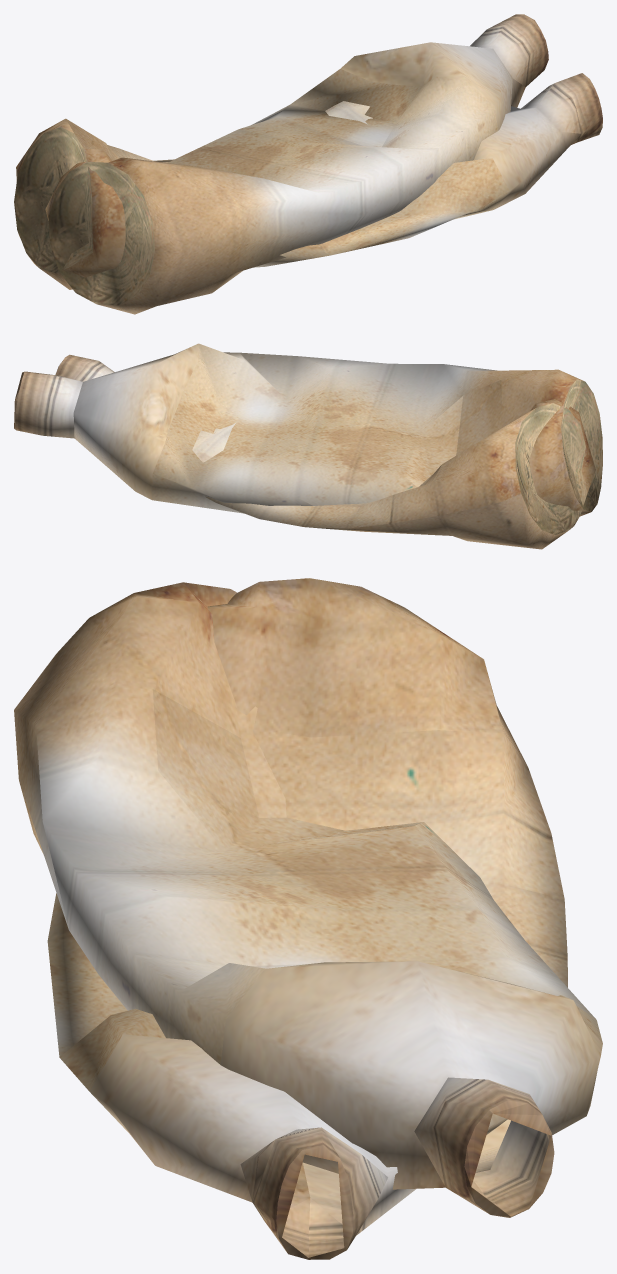
The model's file is trash_bottle.fbx.
3 renders of one model, top to bottom at view 1: azimuth 30°, elevation 25°; view 2: azimuth 150°, elevation 25°; view 3: azimuth 270°, elevation 25°, orthographic. The views are drawn at different scales.
Parts seen in each view (by area): view 1: trash_bottle002 (×2); view 2: trash_bottle002 (×2); view 3: trash_bottle002 (×2).
Boxes of the visible parts, bbox=[...] form: trash_bottle002 (×2): bbox=[14, 14, 602, 314]; trash_bottle002 (×2): bbox=[14, 343, 602, 549]; trash_bottle002 (×2): bbox=[14, 578, 602, 1259].
Bounding box in the file's own units: 23.4 × 11.96 × 5.62.
